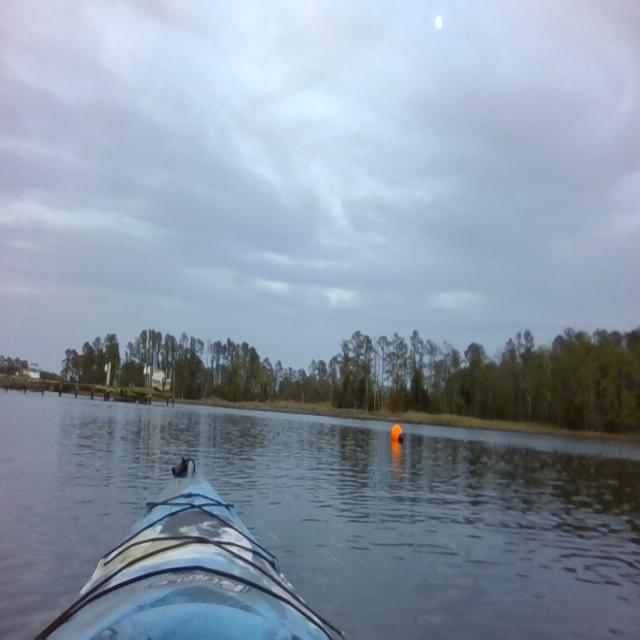Buoy: (388, 419, 406, 448)
